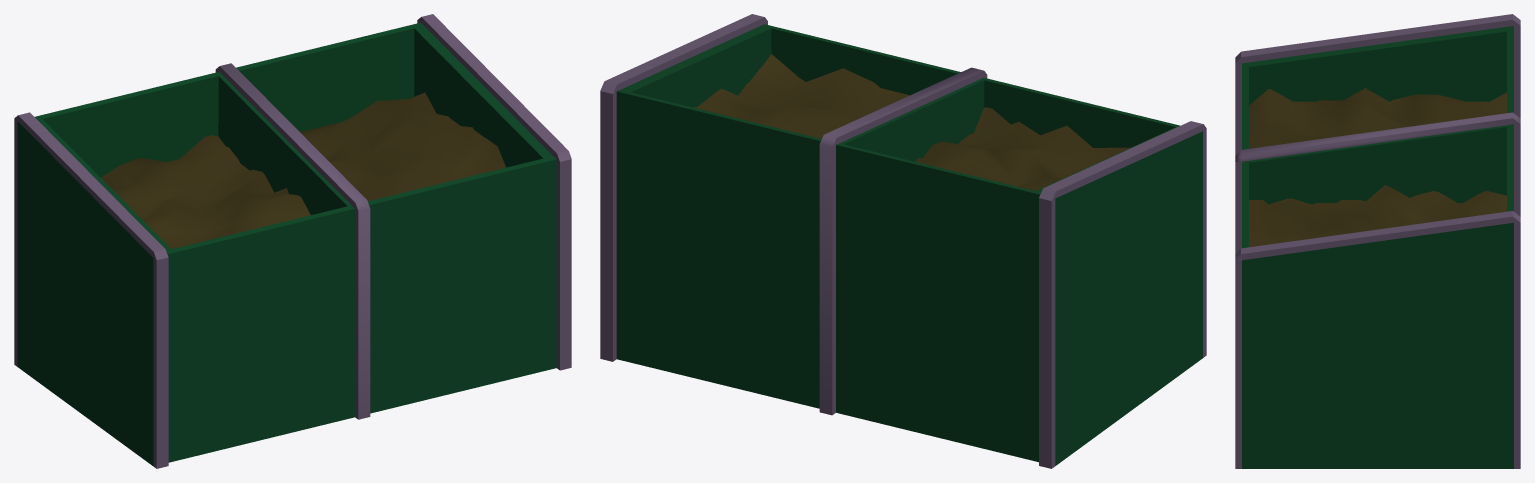
The model's file is trash bin 2.fbx.
The picture shows the model from 3 angles, left to right: view 1: azimuth 30°, elevation 25°; view 2: azimuth 150°, elevation 25°; view 3: azimuth 270°, elevation 25°; orthographic projection. The views are drawn at different scales.
Parts seen in each view (by area): view 1: Cube, Cube.001; view 2: Cube, Cube.001; view 3: Cube, Cube.001.
Boxes of the visible parts, x1,y1,x2,y2 form: Cube: [14, 14, 571, 468]; Cube.001: [101, 92, 505, 249]; Cube: [600, 14, 1206, 468]; Cube.001: [694, 54, 1130, 190]; Cube: [1235, 14, 1520, 468]; Cube.001: [1249, 88, 1506, 247].
Bounding box in the file's own units: 353 × 205 × 210.
